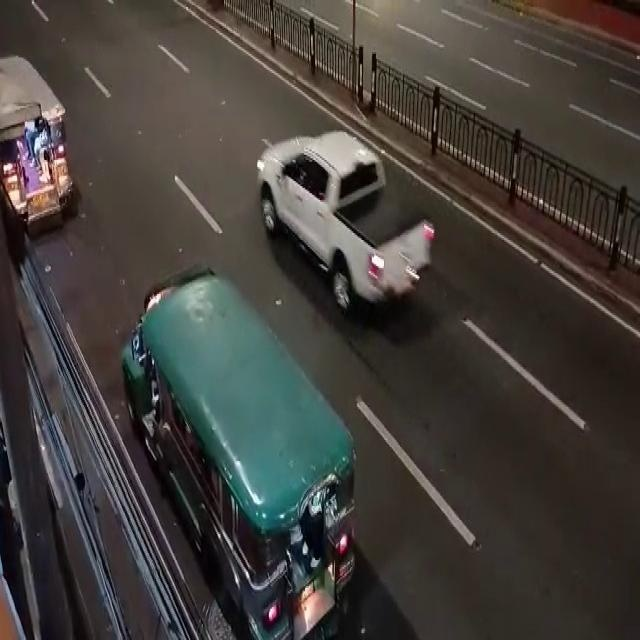car: (263, 146, 414, 321)
jeepney: (116, 254, 525, 638), (1, 56, 639, 222)
